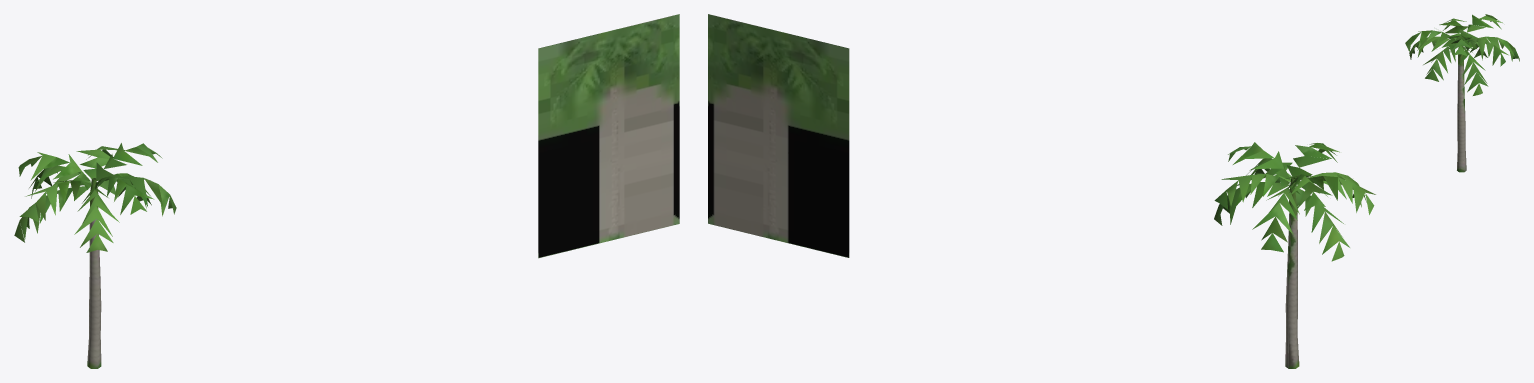
Rendered from tree_palm.glb.
3 views of the same model, side by side, from view 1: azimuth 30°, elevation 25°; view 2: azimuth 150°, elevation 25°; view 3: azimuth 270°, elevation 25° (orthographic). The views are drawn at different scales.
Parts seen in each view (by area): view 1: tree_palm_IMPOSTOR, tree_palm_LOD0; view 2: tree_palm_IMPOSTOR, tree_palm_LOD0; view 3: tree_palm_LOD0.
Boxes of the visible parts, <box> form: tree_palm_IMPOSTOR: <box>538,14,679,258</box>; tree_palm_LOD0: <box>14,143,176,368</box>; tree_palm_IMPOSTOR: <box>708,14,849,257</box>; tree_palm_LOD0: <box>1214,142,1375,368</box>; tree_palm_LOD0: <box>1405,14,1519,172</box>.
Size of what is drawn, in the model's own units: 149 by 45.35 by 32.31.
2 materials, 2 textured.
